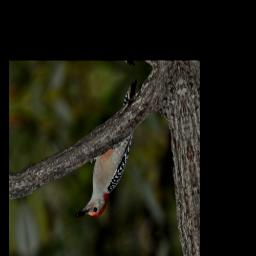Woodpecker: (58, 79, 154, 223)
